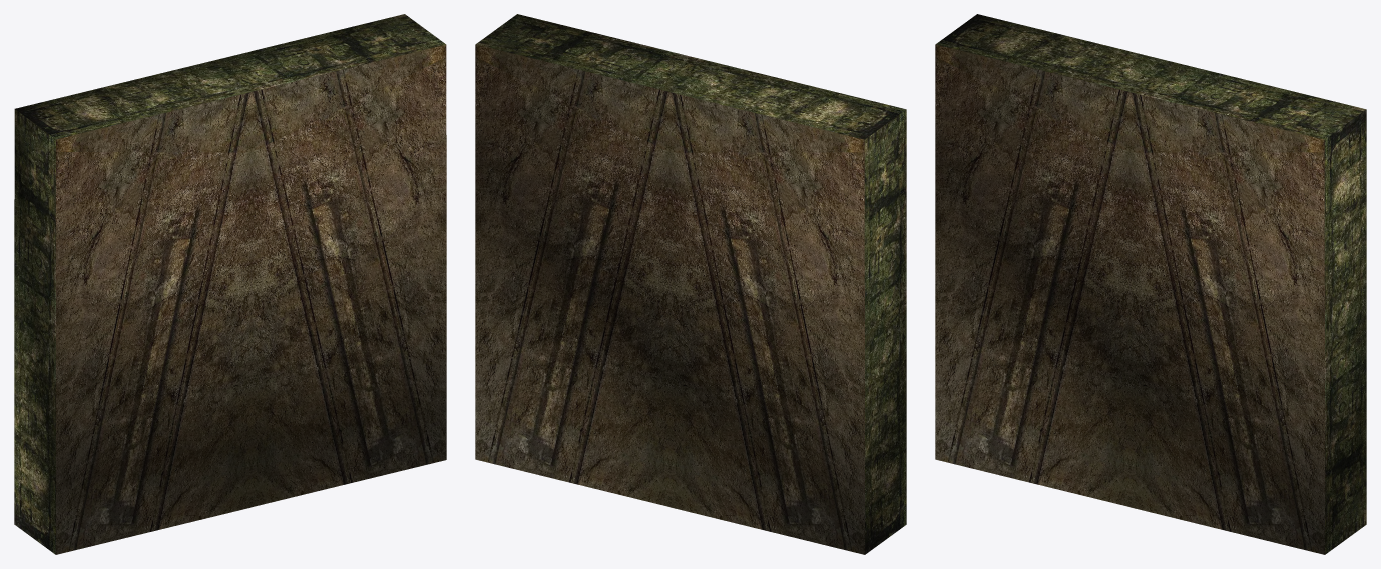
File: EVT_ADDON_LSTTEMP_DOOR_BIGHEAD_01.glb
3 views of the same model, side by side, from view 1: azimuth 30°, elevation 25°; view 2: azimuth 150°, elevation 25°; view 3: azimuth 330°, elevation 25° (orthographic).
Visible parts, largest first — view 1: Mesh; view 2: Mesh; view 3: Mesh.
Part boxes in pixels (bbox=[...]): Mesh: bbox=[14, 14, 446, 554]; Mesh: bbox=[475, 14, 906, 554]; Mesh: bbox=[935, 14, 1366, 554].
Size of the model in its own units: 2.7 by 2.75 by 0.5043.
2 materials, 2 textured.
